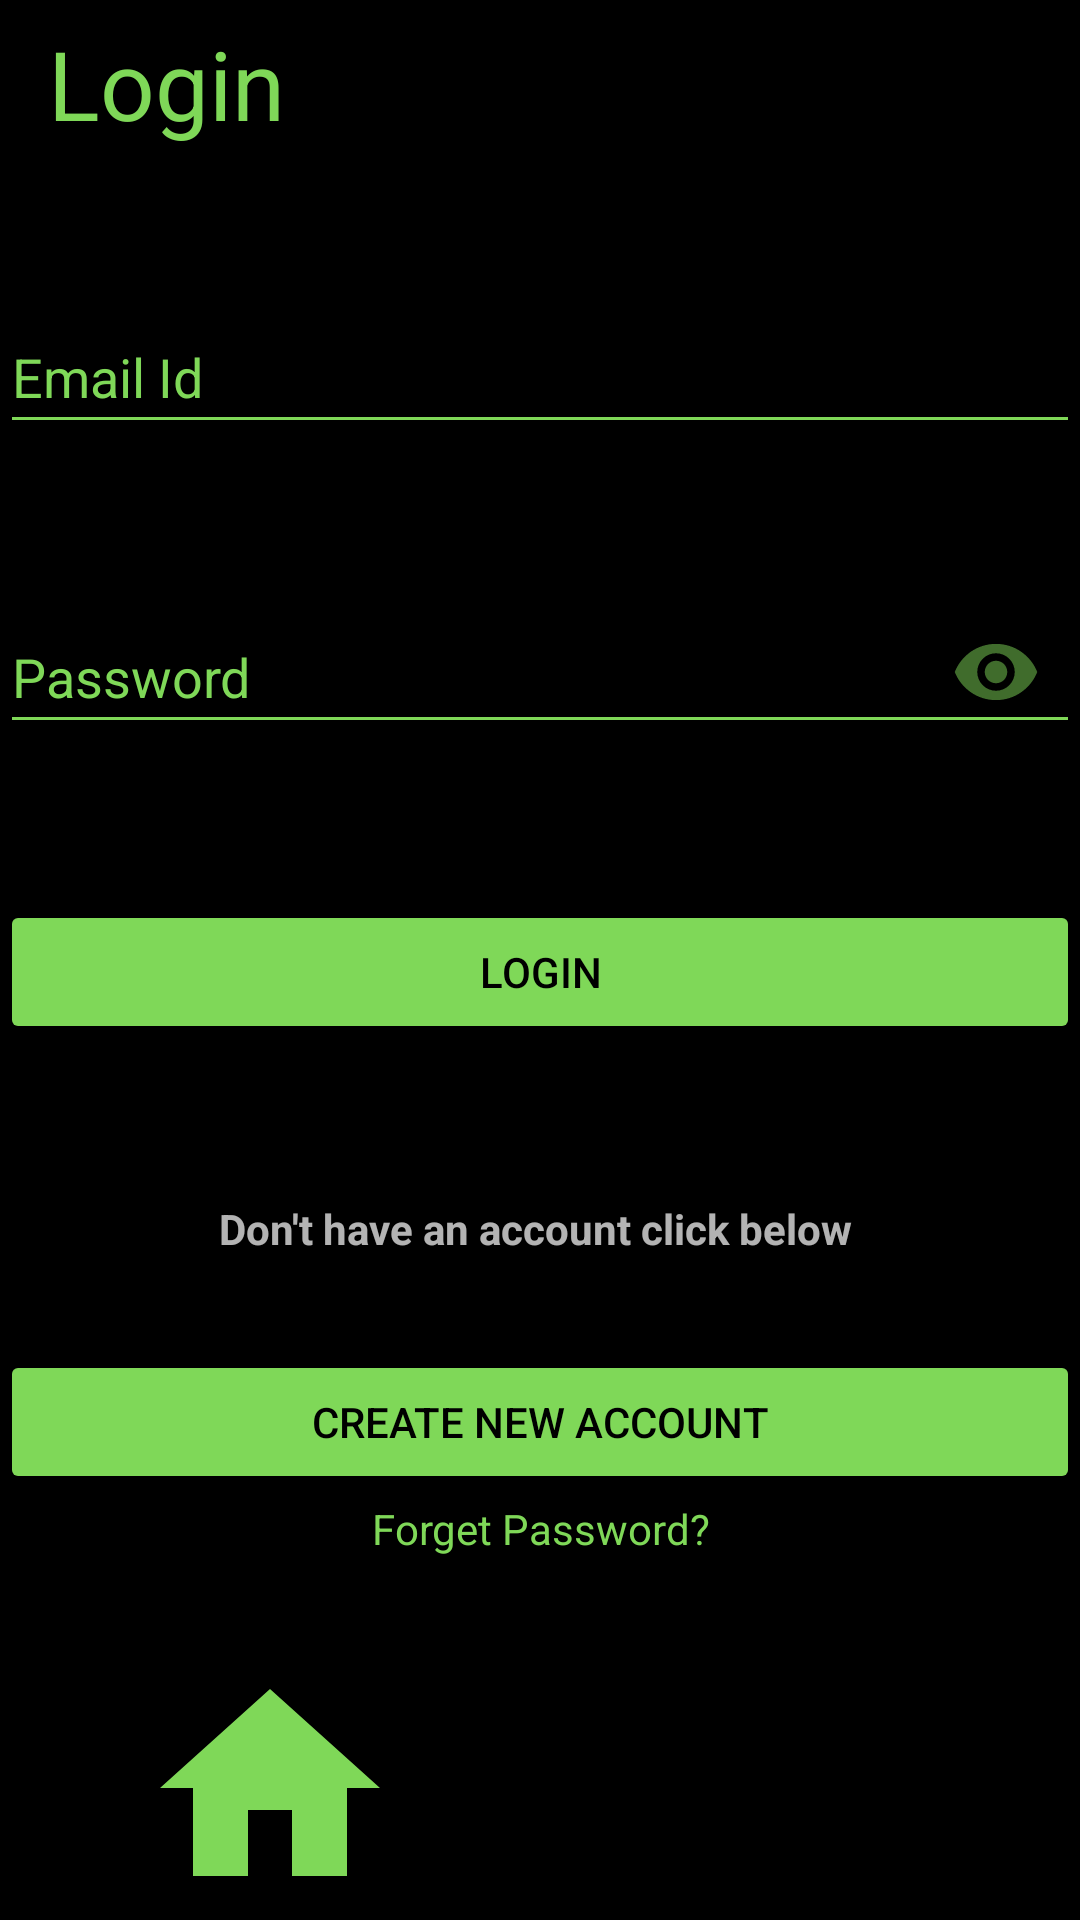

Where icons sit on this 1080x1920 app screen, as (x1, y1, x2, y2):
home: (160, 1689, 380, 1876)
visible eye: (955, 644, 1037, 700)
